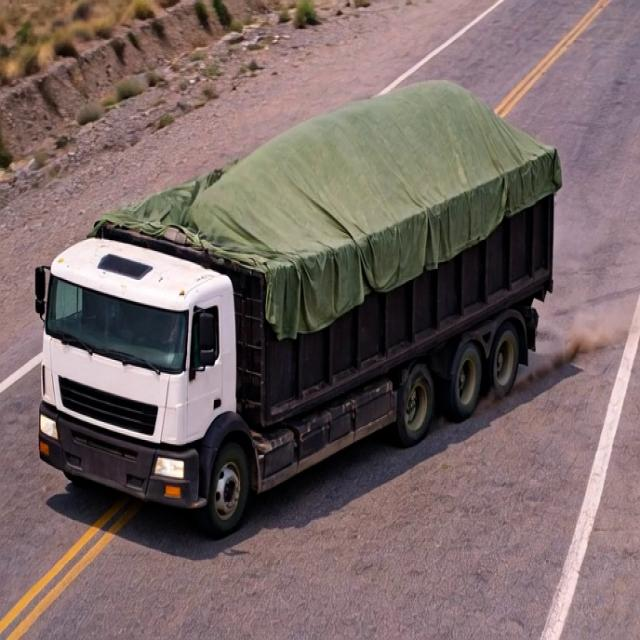Box: (94, 78, 560, 262)
Truck: (32, 38, 577, 535)
